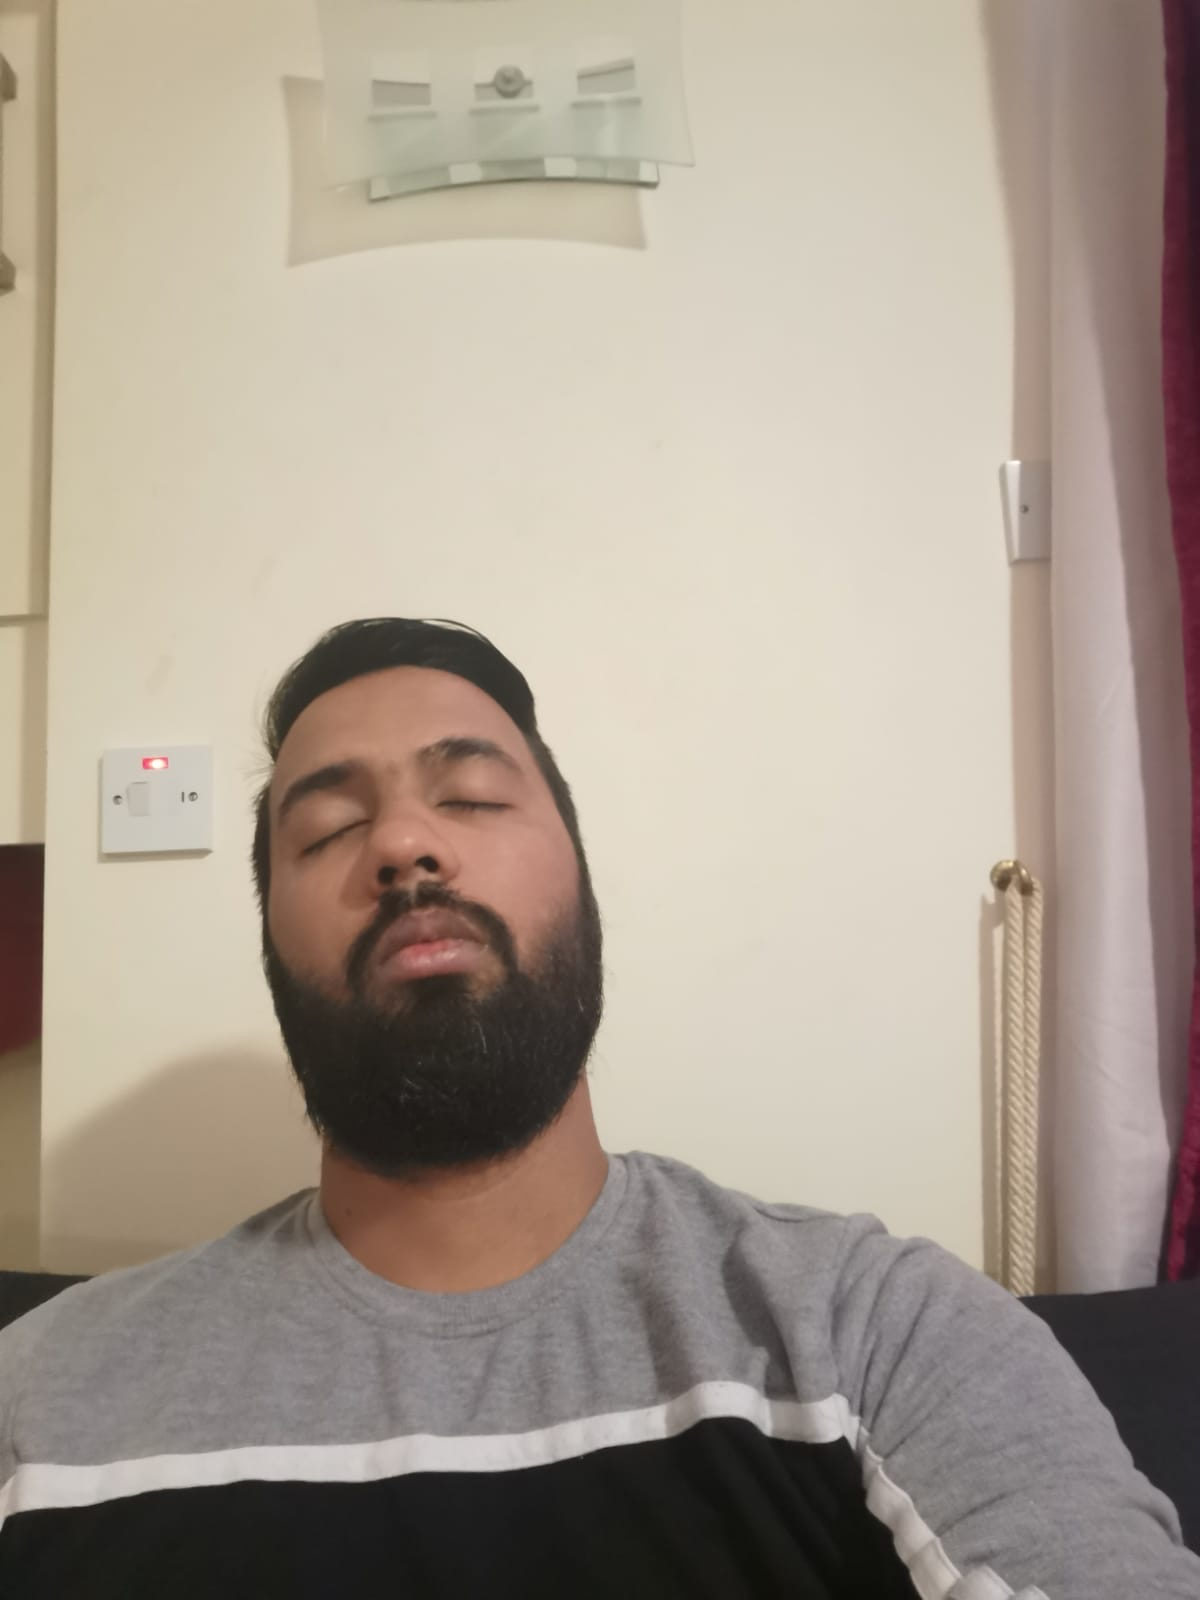Sleeping: (275, 779, 541, 864)
